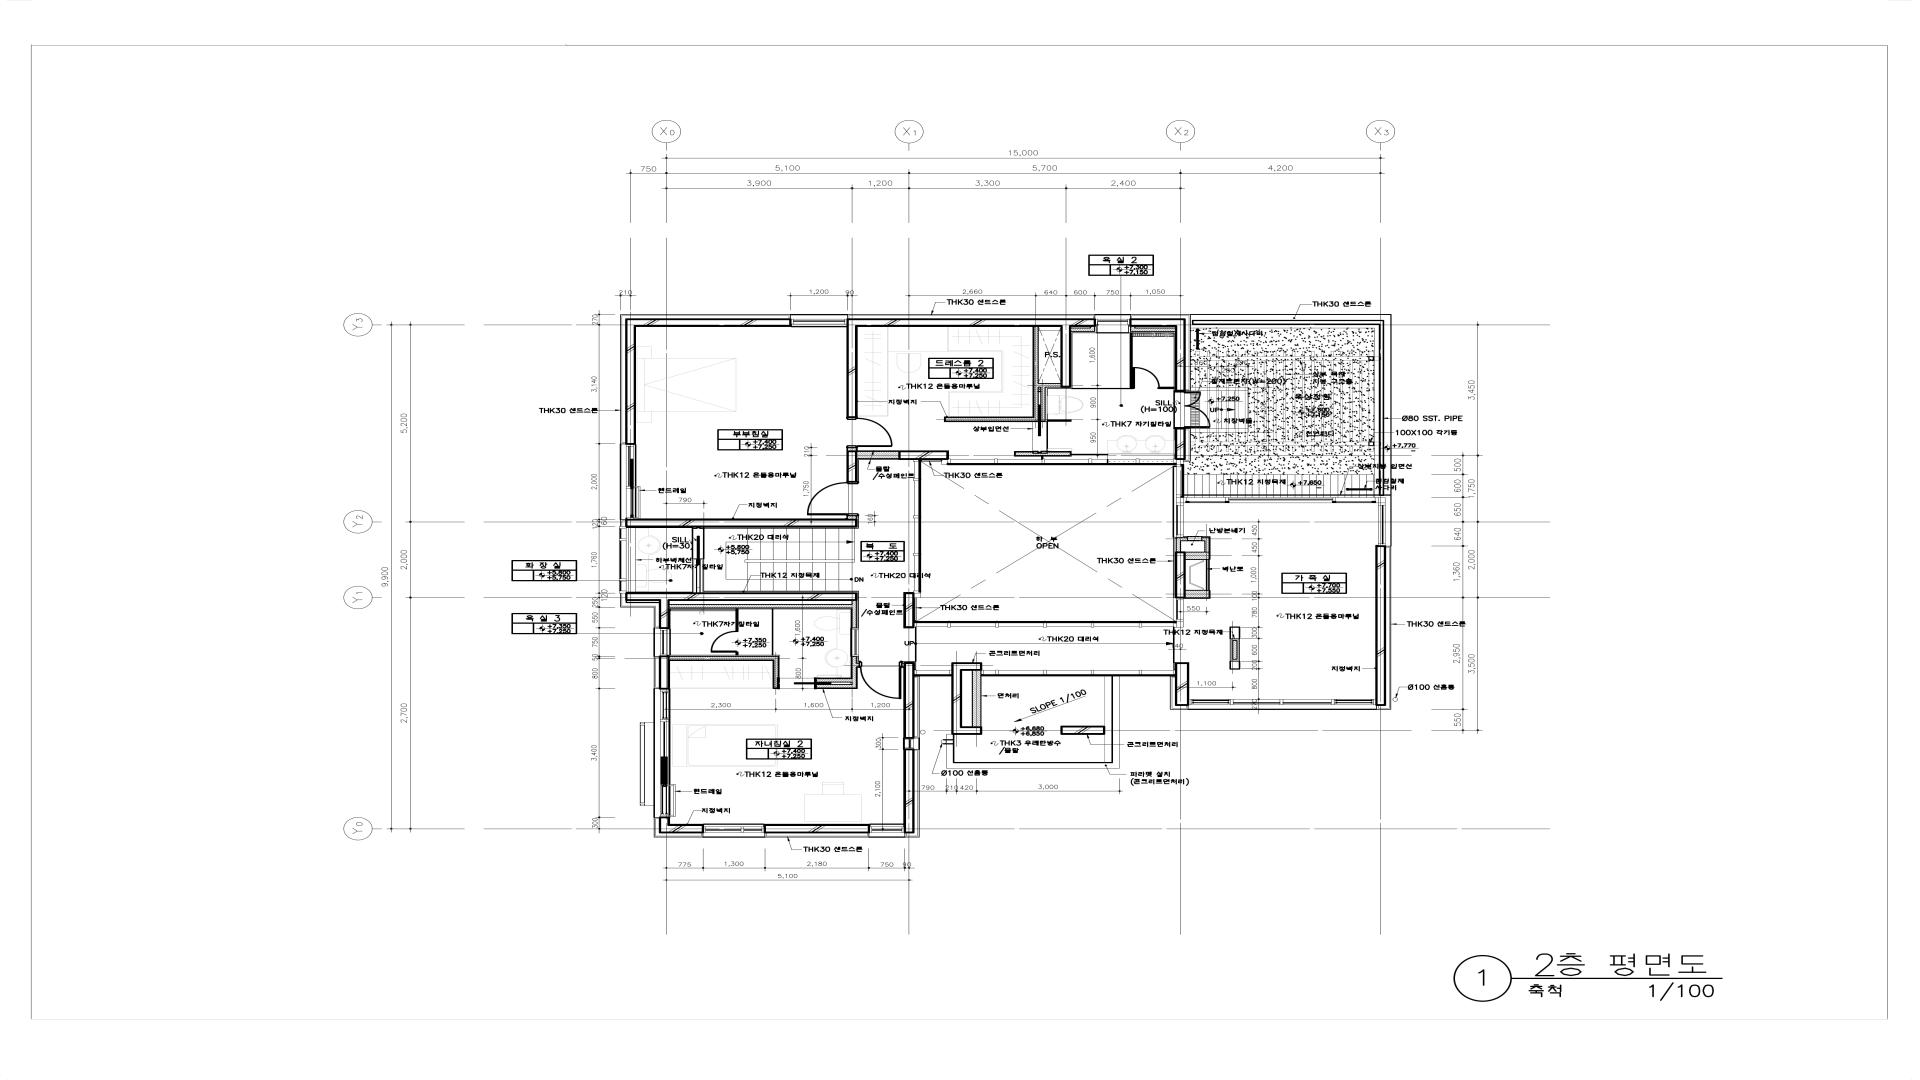door: (807, 481, 858, 516), (858, 661, 902, 699), (1174, 390, 1211, 429), (847, 418, 894, 447), (1033, 386, 1048, 451), (779, 678, 853, 690), (691, 527, 704, 592), (711, 630, 738, 653), (1133, 367, 1159, 389)
wall: (847, 318, 1096, 327), (625, 592, 857, 601), (625, 518, 857, 527), (1375, 545, 1386, 705), (625, 318, 637, 444), (636, 318, 791, 327), (1192, 319, 1379, 326), (1378, 320, 1385, 496), (847, 327, 858, 418), (903, 749, 915, 833), (765, 824, 869, 833), (903, 662, 915, 738), (1175, 318, 1185, 390), (670, 604, 852, 608), (951, 671, 963, 727), (1060, 327, 1071, 388), (1175, 662, 1189, 705), (670, 655, 779, 661), (898, 450, 949, 460), (972, 671, 981, 727), (1175, 551, 1185, 599), (944, 417, 1033, 422), (903, 592, 915, 629), (1129, 318, 1175, 327), (1172, 465, 1184, 497), (1033, 327, 1039, 384), (658, 601, 671, 629), (659, 655, 670, 688), (1175, 429, 1185, 460), (857, 451, 898, 459), (847, 451, 857, 481), (1014, 451, 1072, 456), (670, 824, 703, 833), (951, 662, 981, 671), (951, 727, 982, 735), (1130, 327, 1175, 332), (1185, 589, 1211, 599), (1185, 551, 1211, 560), (773, 661, 781, 690), (1130, 332, 1134, 389), (818, 684, 857, 690), (1033, 386, 1038, 422), (659, 816, 670, 833), (851, 601, 857, 628), (818, 678, 853, 682), (1042, 386, 1046, 422), (1071, 327, 1096, 332), (851, 667, 857, 684), (1204, 537, 1211, 551), (1176, 537, 1182, 551), (1046, 382, 1060, 388), (1046, 419, 1072, 422), (736, 608, 738, 630), (1033, 382, 1046, 386), (1072, 454, 1109, 455), (851, 657, 857, 663), (847, 516, 857, 520), (847, 447, 857, 451), (1176, 460, 1184, 465), (1159, 386, 1175, 389), (851, 663, 858, 667), (1182, 537, 1188, 541), (1201, 537, 1204, 541), (736, 653, 738, 655), (902, 663, 903, 667)
window: (915, 621, 1176, 628), (659, 688, 670, 816), (1183, 497, 1386, 504), (981, 670, 1175, 676), (913, 460, 922, 593), (1189, 699, 1375, 705), (947, 460, 1176, 465), (703, 823, 765, 837), (626, 444, 637, 520), (618, 526, 626, 593), (791, 319, 847, 327), (870, 824, 903, 837), (1172, 497, 1183, 537), (1378, 502, 1386, 545), (914, 670, 951, 676), (851, 628, 858, 657), (659, 629, 667, 655), (1176, 599, 1183, 628), (1096, 319, 1129, 324), (903, 738, 914, 749)
